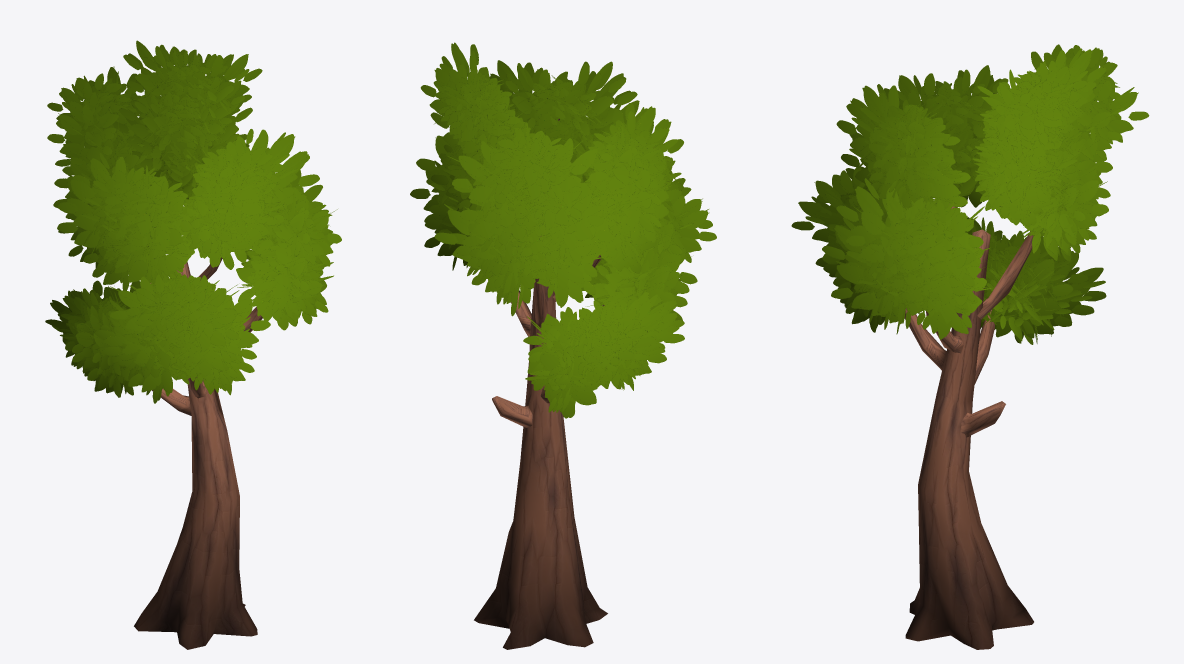
The model's file is CommonTree_5_s.gltf.
3 renders of one model, left to right at view 1: azimuth 30°, elevation 25°; view 2: azimuth 150°, elevation 25°; view 3: azimuth 270°, elevation 25°, orthographic. The views are drawn at different scales.
Parts seen in each view (by area): view 1: CommonTree_5; view 2: CommonTree_5; view 3: CommonTree_5.
Boxes of the visible parts, x1,y1,x2,y2 form: CommonTree_5: [45, 40, 341, 649]; CommonTree_5: [410, 42, 716, 649]; CommonTree_5: [791, 44, 1149, 649].
Size of the model in its own units: 3.67 by 7.01 by 4.22.
Materials: 2 (2 with a texture image).
